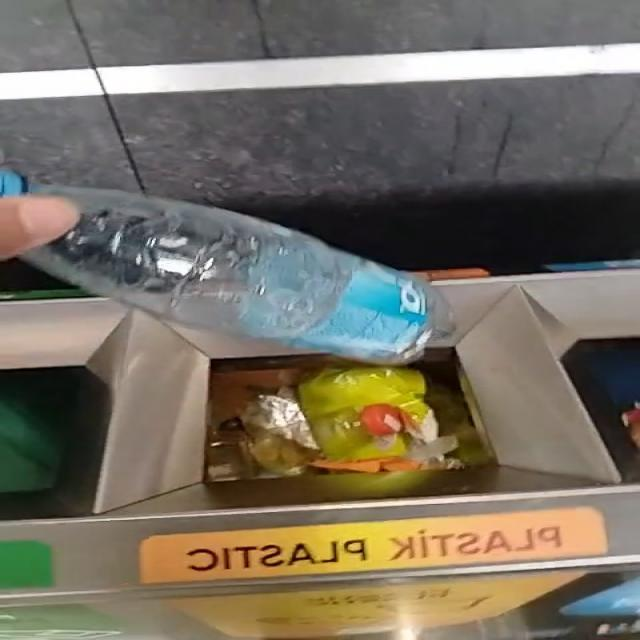Plastic: (20, 186, 452, 364)
